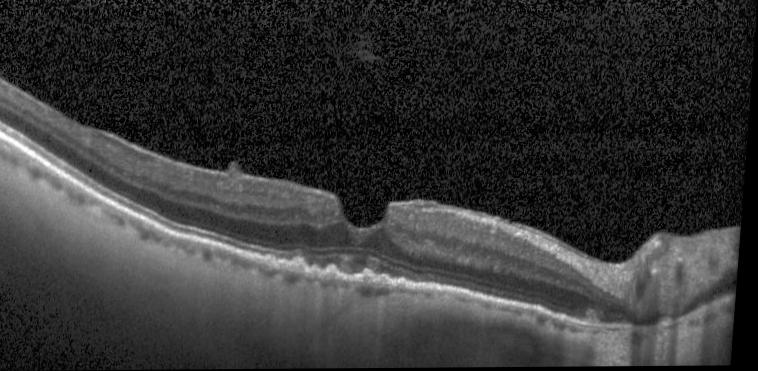lamellar_macular_rupture: (340, 197, 392, 229)
retinal_drusen: (292, 259, 310, 273), (329, 268, 342, 279), (379, 277, 395, 285), (366, 274, 376, 284), (313, 268, 324, 276), (269, 256, 278, 264), (401, 281, 409, 287)
